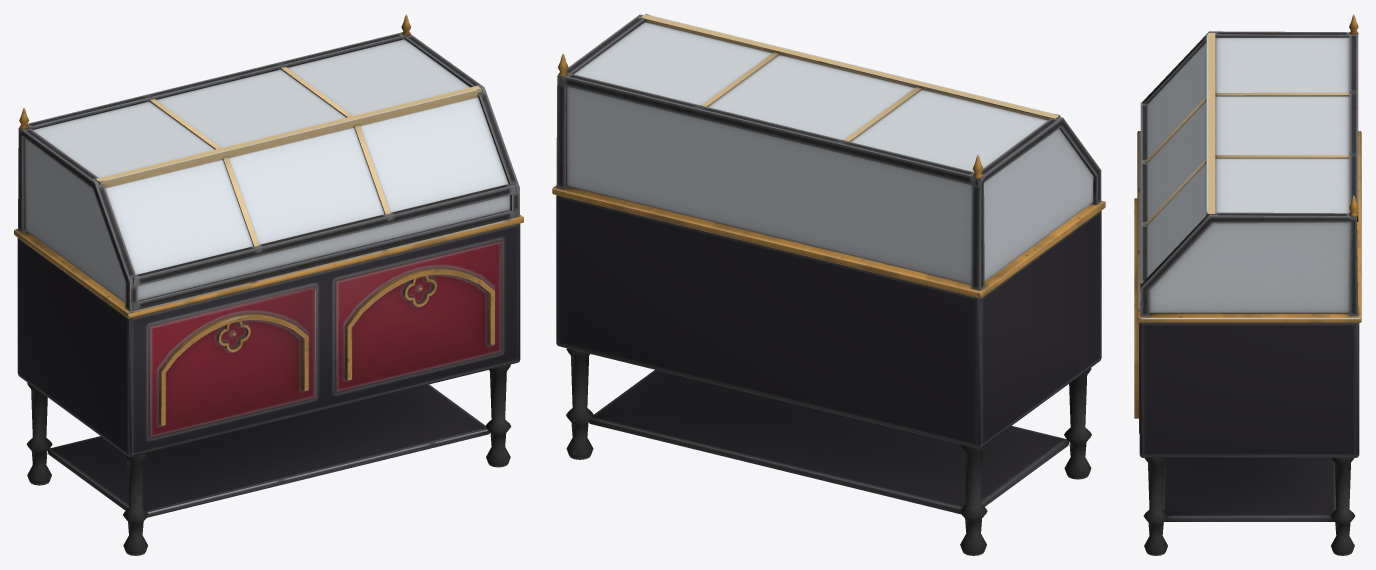
File: DisplayCase.fbx
3 views of the same model, side by side, from view 1: azimuth 30°, elevation 25°; view 2: azimuth 150°, elevation 25°; view 3: azimuth 270°, elevation 25° (orthographic). The views are drawn at different scales.
Visible parts, largest first — view 1: DisplayCase_Main, DisplayCase_Glass; view 2: DisplayCase_Main, DisplayCase_Glass; view 3: DisplayCase_Main, DisplayCase_Glass.
Part boxes in pixels (x1=…): DisplayCase_Main: x1=14, y1=14, x2=523, y2=555; DisplayCase_Glass: x1=24, y1=39, x2=510, y2=302; DisplayCase_Main: x1=552, y1=14, x2=1105, y2=555; DisplayCase_Glass: x1=567, y1=22, x2=1093, y2=284; DisplayCase_Main: x1=1134, y1=14, x2=1361, y2=555; DisplayCase_Glass: x1=1147, y1=37, x2=1350, y2=312.
Size of the model in its own units: 404 by 363 by 207.
